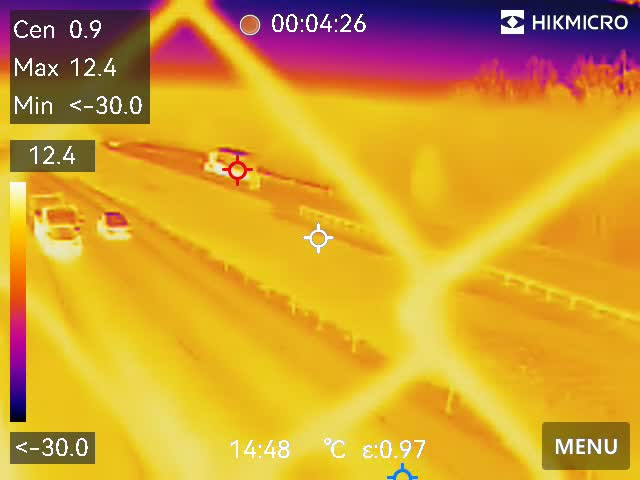heavyTruck: (27, 187, 88, 256), (199, 143, 263, 177)
smallCar: (96, 205, 129, 244)
